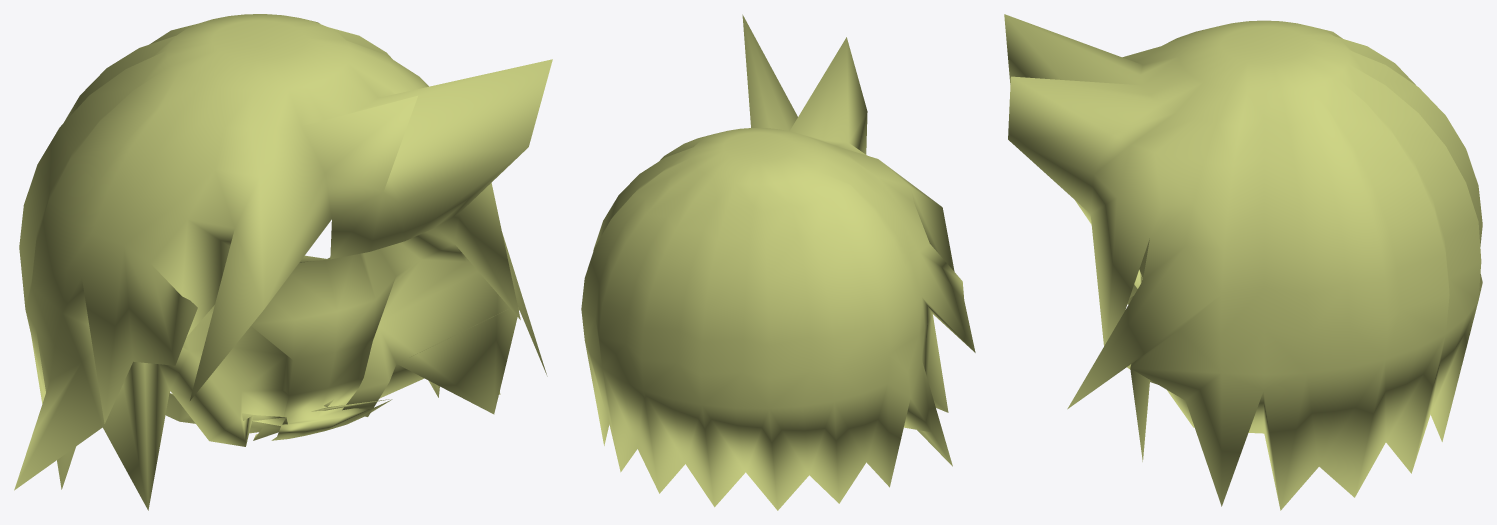
File: male_hair2_color4.gltf
The picture shows the model from 3 angles, left to right: view 1: azimuth 30°, elevation 25°; view 2: azimuth 150°, elevation 25°; view 3: azimuth 270°, elevation 25°; orthographic projection. The views are drawn at different scales.
Visible parts, largest first — view 1: male_hair5; view 2: male_hair5; view 3: male_hair5.
Part boxes in pixels (left/top/right/bottom): male_hair5: left=14, top=14, right=552, bottom=510; male_hair5: left=581, top=14, right=975, bottom=510; male_hair5: left=1004, top=14, right=1482, bottom=510.
Bounding box in the file's own units: 0.2627 × 0.2401 × 0.2478.
